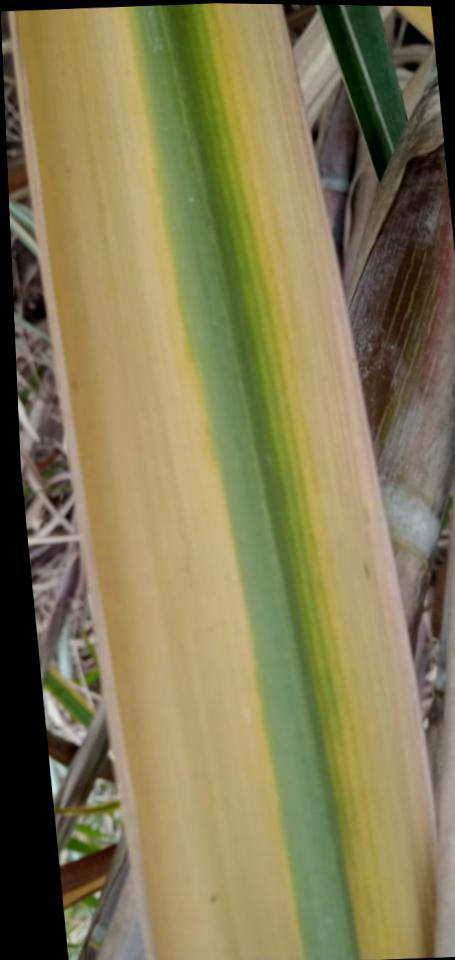Yellow: (14, 7, 310, 960), (174, 3, 432, 960)
